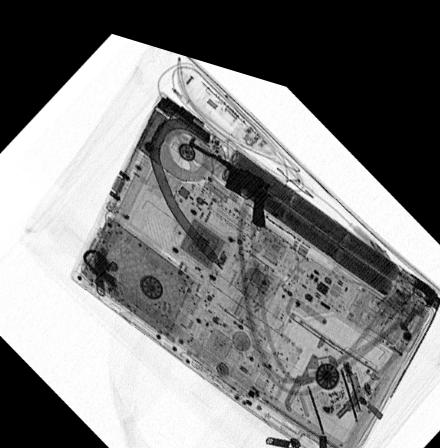Gun: (187, 127, 268, 214)
